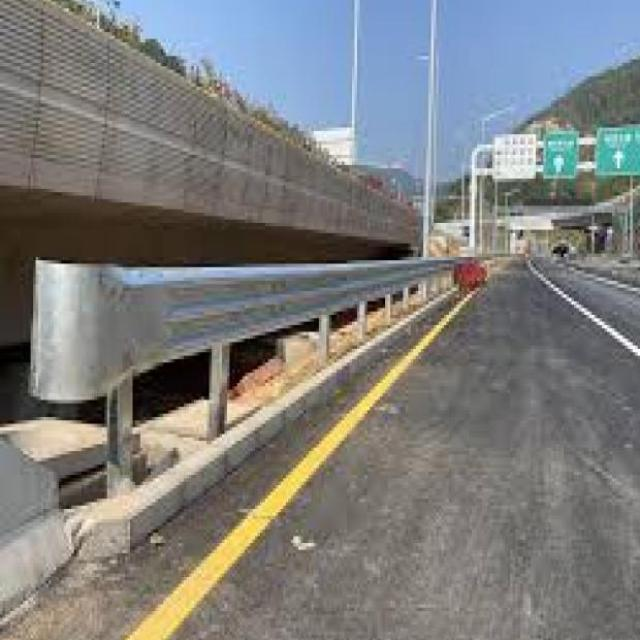Guard rail: (31, 260, 455, 401)
